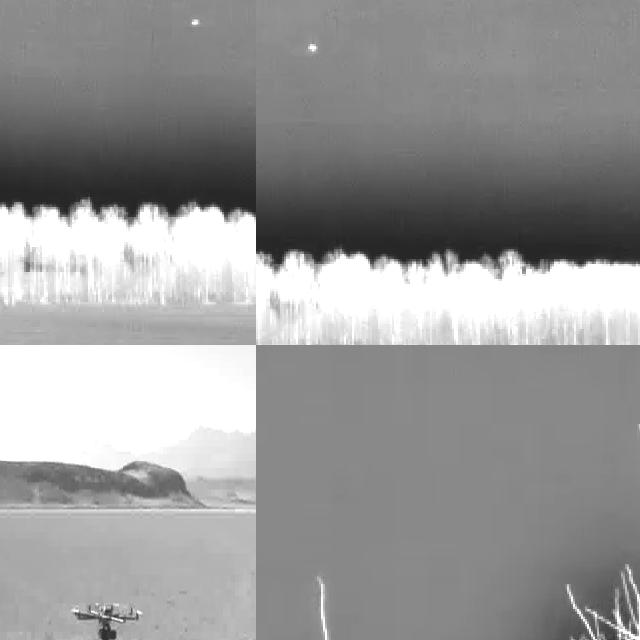1: (175, 8, 207, 44), (296, 38, 322, 65)
drone: (72, 598, 143, 640)
